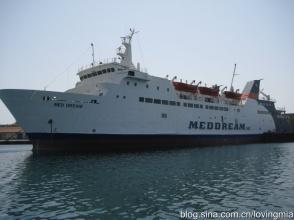Cargoship: (1, 36, 294, 151)
